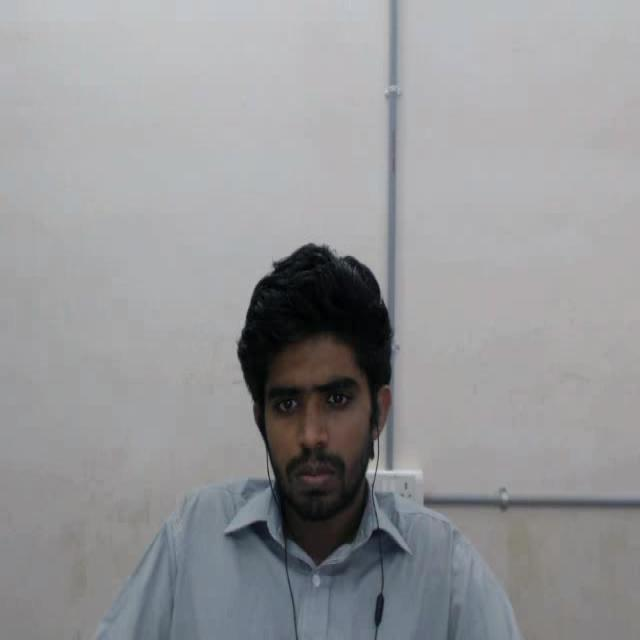Engaged: (224, 231, 418, 568)
